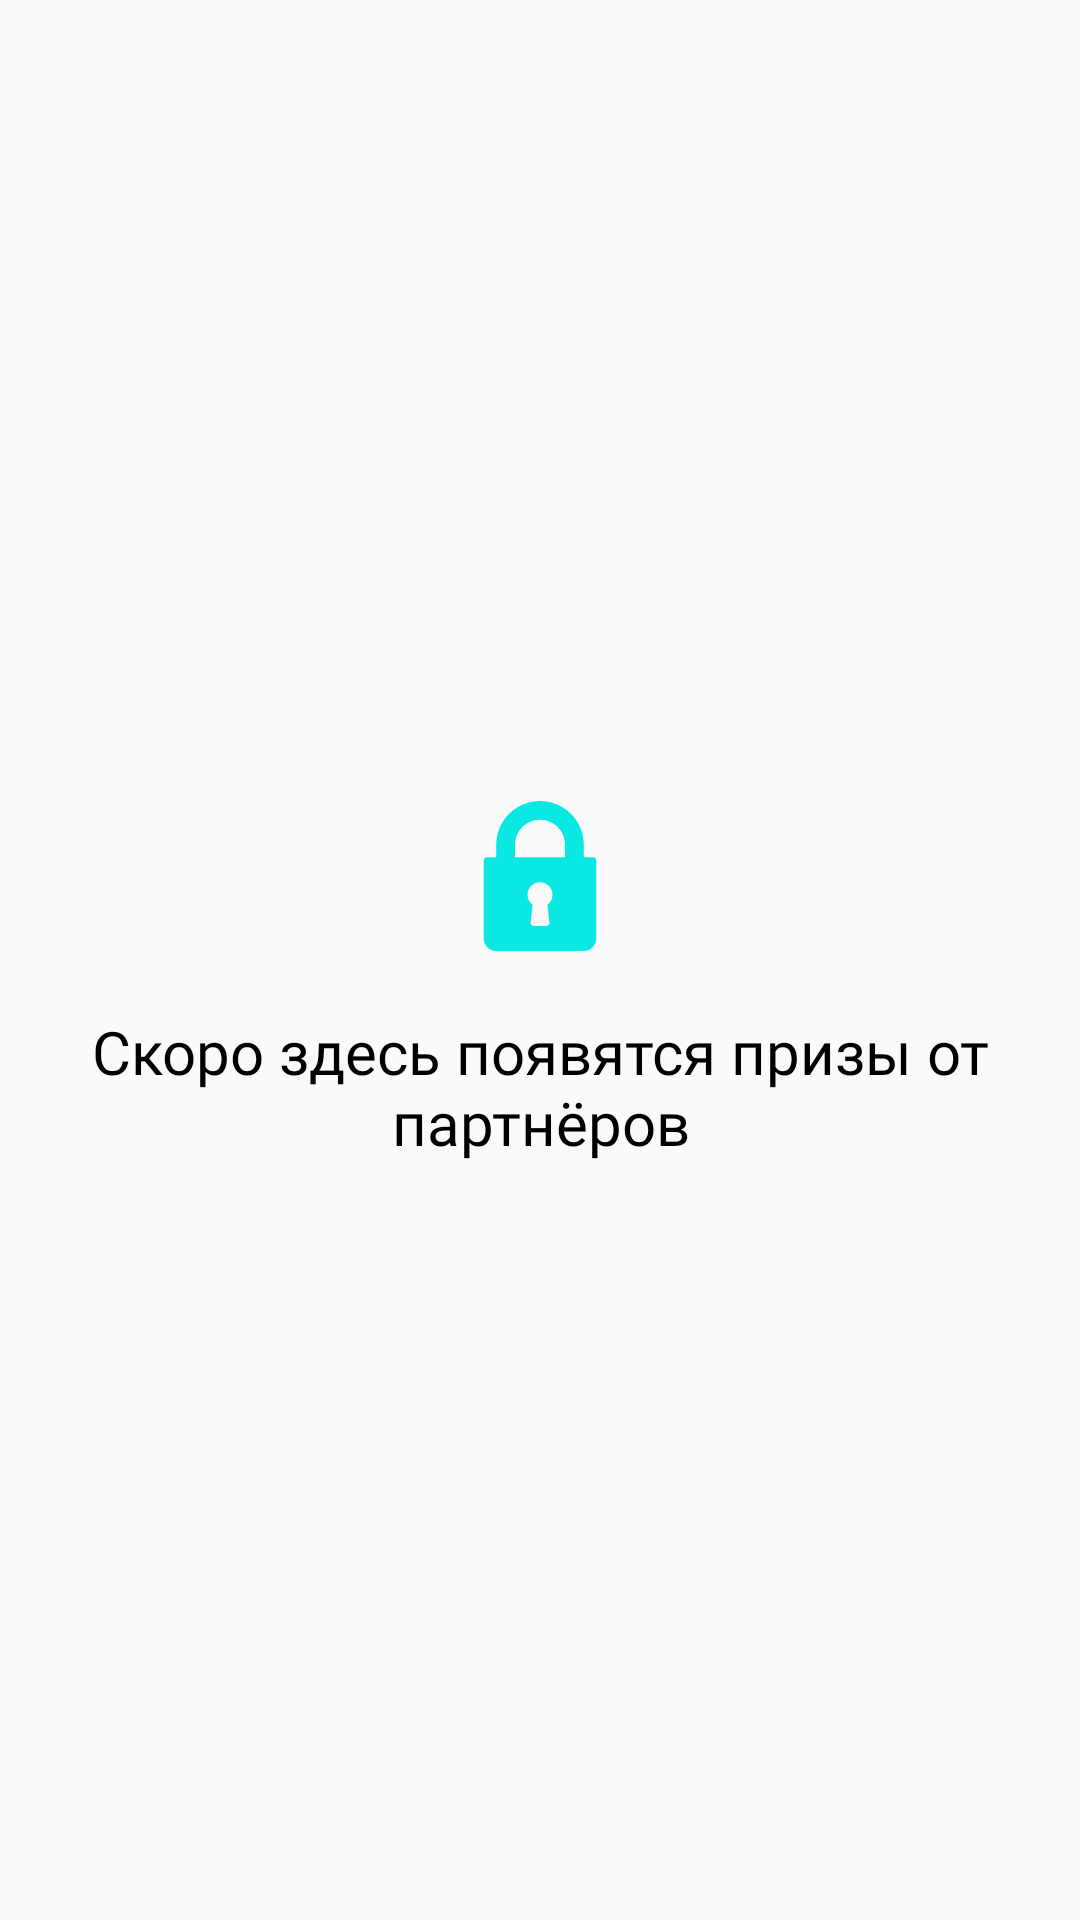

Icon bounding boxes for this 1080w x 1920h phone screenshot, format [x1, y1, x2, y2]:
lock: [483, 801, 597, 951]
